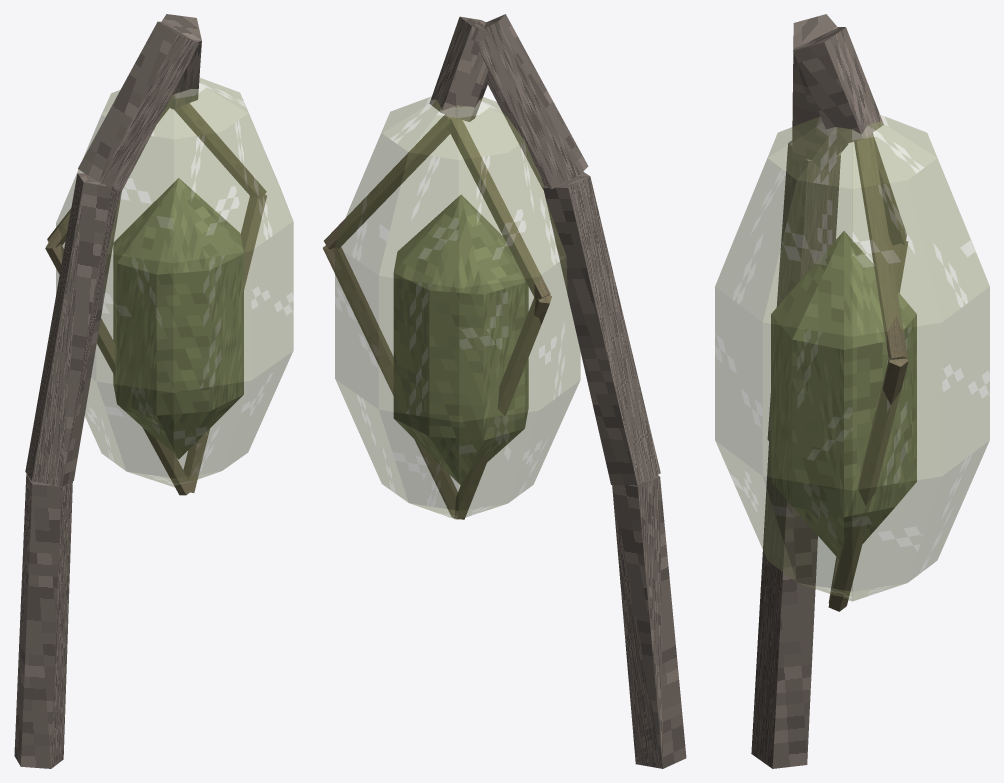
Rendered from f_alien_pod.glb.
3 views of the same model, side by side, from view 1: azimuth 30°, elevation 25°; view 2: azimuth 150°, elevation 25°; view 3: azimuth 270°, elevation 25° (orthographic). The views are drawn at different scales.
Visible parts, largest first — view 1: block_translucent-pod-membrane, block_opaque-mucus-core, block_arched-suspension-stalk-2, block_arched-suspension-stalk-1, block_arched-suspension-stalk-3, block_membrane-vein-2 (×2), block_membrane-vein-1, block_arched-suspension-stalk-4; view 2: block_translucent-pod-membrane, block_opaque-mucus-core, block_arched-suspension-stalk-2, block_arched-suspension-stalk-1, block_arched-suspension-stalk-3, block_membrane-vein-2 (×2), block_membrane-vein-1 (×2), block_arched-suspension-stalk-4; view 3: block_translucent-pod-membrane, block_opaque-mucus-core, block_arched-suspension-stalk-1, block_arched-suspension-stalk-2, block_arched-suspension-stalk-4, block_membrane-vein-1 (×2), block_membrane-vein-2 (×2), block_arched-suspension-stalk-3.
Boxes of the visible parts, x1,y1,x2,y2 form: block_translucent-pod-membrane: (56,78,293,487); block_opaque-mucus-core: (113,178,243,459); block_arched-suspension-stalk-2: (25,173,121,486); block_arched-suspension-stalk-1: (14,474,72,768); block_arched-suspension-stalk-3: (78,21,198,191); block_membrane-vein-2 (×2): (45,195,266,495); block_membrane-vein-1: (174,103,266,198); block_arched-suspension-stalk-4: (161,14,201,109); block_translucent-pod-membrane: (335,96,580,519); block_opaque-mucus-core: (393,194,528,484); block_arched-suspension-stalk-2: (543,171,660,485); block_arched-suspension-stalk-1: (612,475,686,768); block_arched-suspension-stalk-3: (476,14,588,189); block_membrane-vein-2 (×2): (323,245,551,519); block_membrane-vein-1 (×2): (324,114,550,300); block_arched-suspension-stalk-4: (429,16,492,121); block_translucent-pod-membrane: (715,114,989,601); block_opaque-mucus-core: (771,231,916,558); block_arched-suspension-stalk-1: (751,441,817,768); block_arched-suspension-stalk-2: (767,140,840,442); block_arched-suspension-stalk-4: (793,27,883,146); block_membrane-vein-1 (×2): (854,133,907,359); block_membrane-vein-2 (×2): (828,241,908,611); block_arched-suspension-stalk-3: (792,14,847,169).
Bounding box in the file's own units: 0.582 × 1.29 × 0.3915.
Materials: 2 (2 with a texture image).
